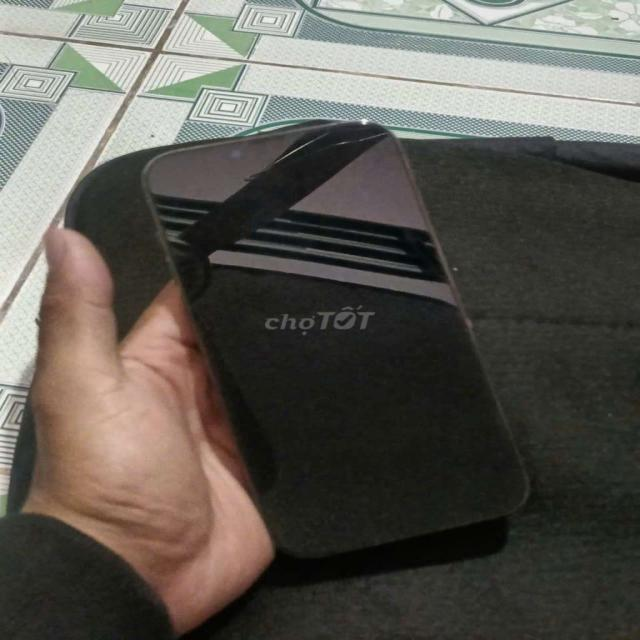gen_12_13: (123, 106, 550, 576)
physical_damage: (222, 112, 432, 180)
